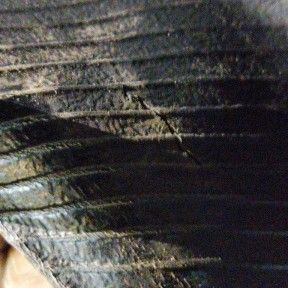cut: (119, 85, 204, 172)
